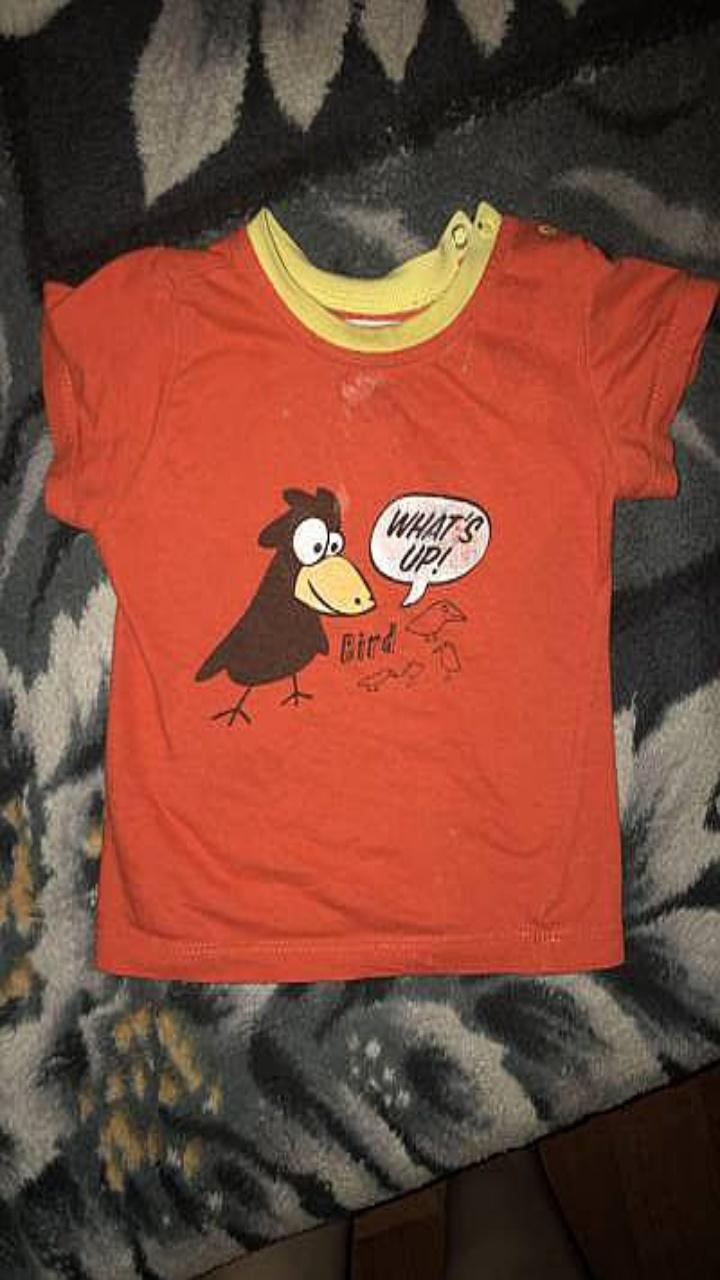T-Shirt: (42, 202, 719, 981)
